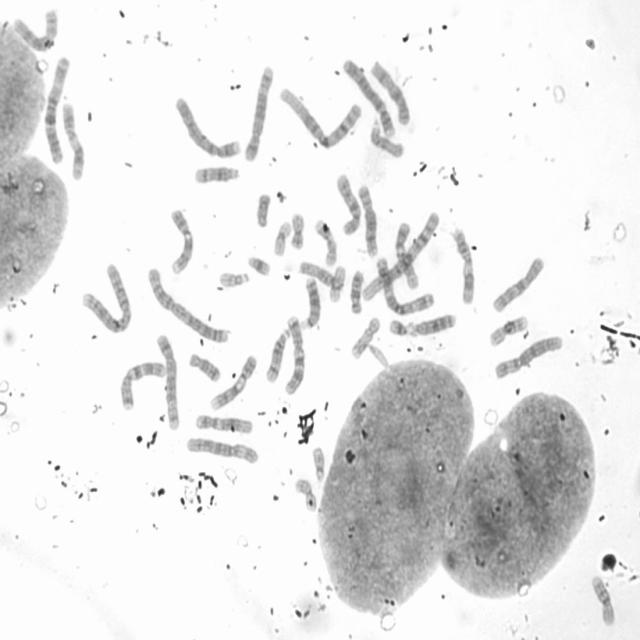A1: (360, 208, 442, 302), (276, 88, 362, 152)
A2: (148, 265, 230, 345), (81, 258, 133, 336)
A3: (375, 256, 436, 315), (43, 53, 72, 166)
B4: (341, 60, 396, 138), (174, 95, 241, 159)
B5: (243, 64, 275, 164), (156, 334, 183, 432)
C10: (492, 254, 545, 312), (336, 172, 362, 236)
C11: (60, 101, 87, 182), (450, 227, 475, 306)
C12: (393, 222, 421, 289), (192, 413, 256, 438)
C6: (493, 334, 564, 382), (184, 437, 260, 468)
C7: (117, 361, 167, 413), (284, 314, 306, 396)
C8: (11, 6, 58, 53), (356, 185, 378, 258)
C9: (208, 354, 257, 413), (168, 208, 196, 276)
D13: (300, 277, 320, 332), (412, 313, 457, 337)
D14: (264, 327, 291, 386), (190, 164, 243, 187)
D15: (368, 119, 406, 161), (297, 259, 343, 292)
E16: (588, 572, 616, 627), (488, 315, 530, 349)
E17: (351, 315, 384, 361), (313, 218, 337, 266)
E18: (188, 351, 223, 384), (349, 269, 364, 315)
F19: (270, 220, 292, 258), (327, 264, 346, 304)
F20: (293, 479, 318, 514), (289, 211, 306, 251)
G21: (247, 254, 274, 279), (388, 319, 413, 337)
G22: (219, 270, 251, 288), (311, 446, 326, 484)
X: (369, 56, 412, 128)
Y: (253, 191, 271, 229)
